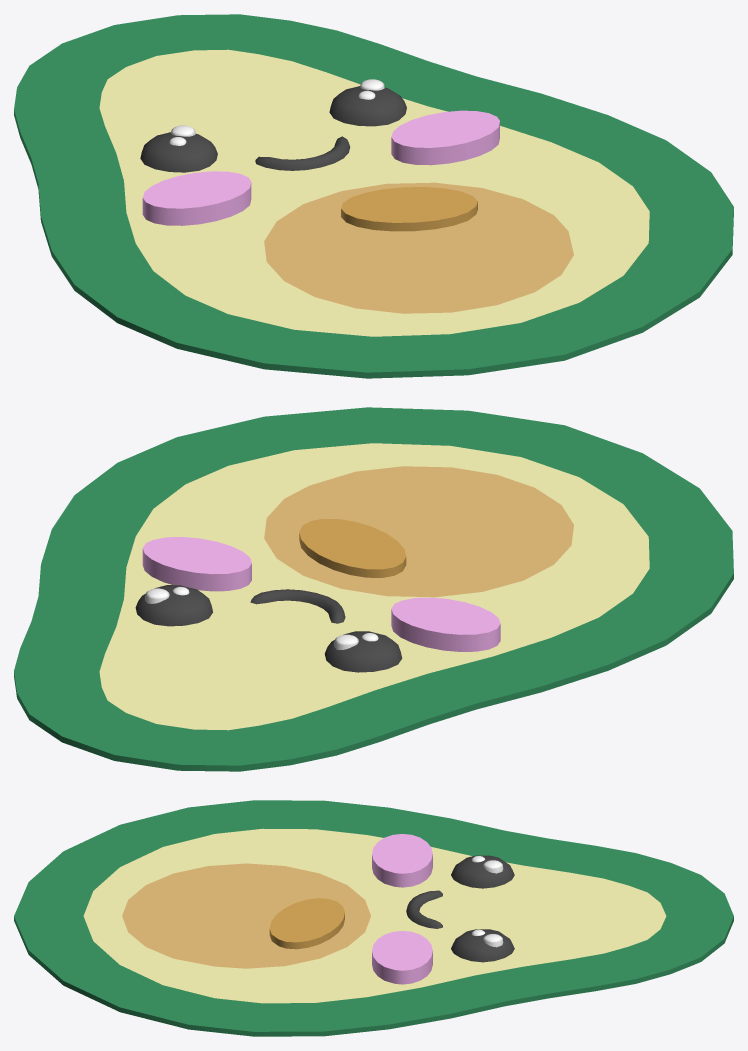
The model's file is avocado.glb.
3 views of the same model, one above another, from view 1: azimuth 30°, elevation 25°; view 2: azimuth 150°, elevation 25°; view 3: azimuth 270°, elevation 25° (orthographic). The views are drawn at different scales.
Visible parts, largest first — view 1: green, yellow, belly1, cheeks, face, belly2; view 2: green, yellow, belly1, cheeks, face, belly2; view 3: green, yellow, belly1, cheeks, face, belly2.
Part boxes in pixels (x1=…): green: x1=14, y1=14, x2=733, y2=378; yellow: x1=99, y1=49, x2=649, y2=336; belly1: x1=264, y1=182, x2=573, y2=313; cheeks: x1=142, y1=110, x2=499, y2=225; face: x1=140, y1=79, x2=406, y2=172; belly2: x1=341, y1=187, x2=477, y2=231; green: x1=14, y1=407, x2=733, y2=771; yellow: x1=99, y1=443, x2=649, y2=730; belly1: x1=264, y1=466, x2=573, y2=597; cheeks: x1=142, y1=537, x2=500, y2=651; face: x1=135, y1=585, x2=402, y2=672; belly2: x1=299, y1=519, x2=406, y2=577; green: x1=14, y1=800, x2=733, y2=1036; yellow: x1=83, y1=828, x2=666, y2=1003; belly1: x1=122, y1=863, x2=370, y2=968; cheeks: x1=372, y1=834, x2=432, y2=984; face: x1=406, y1=855, x2=514, y2=962; belly2: x1=269, y1=898, x2=344, y2=949.
Bounding box in the file's own units: 10.57 × 0.5731 × 13.88.
